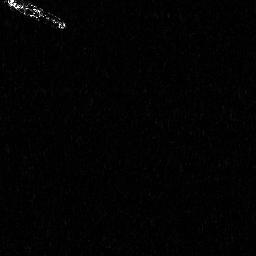ship: (4, 1, 69, 31)
